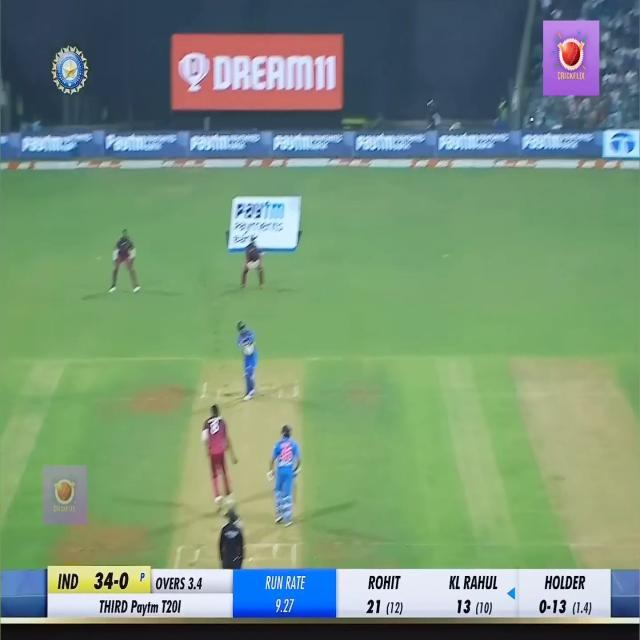fully_visible: (237, 193, 296, 247), (105, 131, 173, 169), (19, 132, 93, 163), (442, 131, 514, 162), (528, 129, 590, 164), (194, 134, 252, 166), (359, 138, 423, 164), (277, 134, 331, 163)
